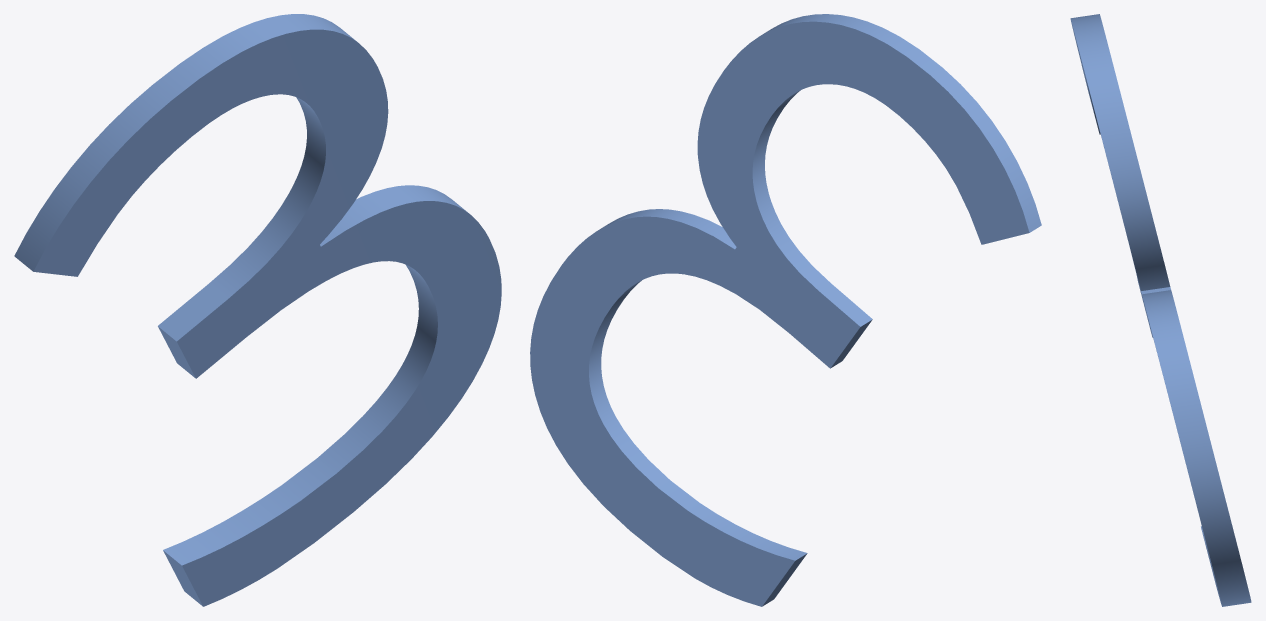
Rendered from New_Number_3.gltf.
The picture shows the model from 3 angles, left to right: view 1: azimuth 30°, elevation 25°; view 2: azimuth 150°, elevation 25°; view 3: azimuth 270°, elevation 25°; orthographic projection. The views are drawn at different scales.
Visible parts, largest first — view 1: Part 111; view 2: Part 111; view 3: Part 111.
Boxes of the visible parts, box(x1,y1,x2,y2) form: Part 111: box(14, 14, 501, 606); Part 111: box(530, 14, 1041, 606); Part 111: box(1070, 14, 1251, 606).
Bounding box in the file's own units: 0.0046 × 0.00526 × 0.00156.
